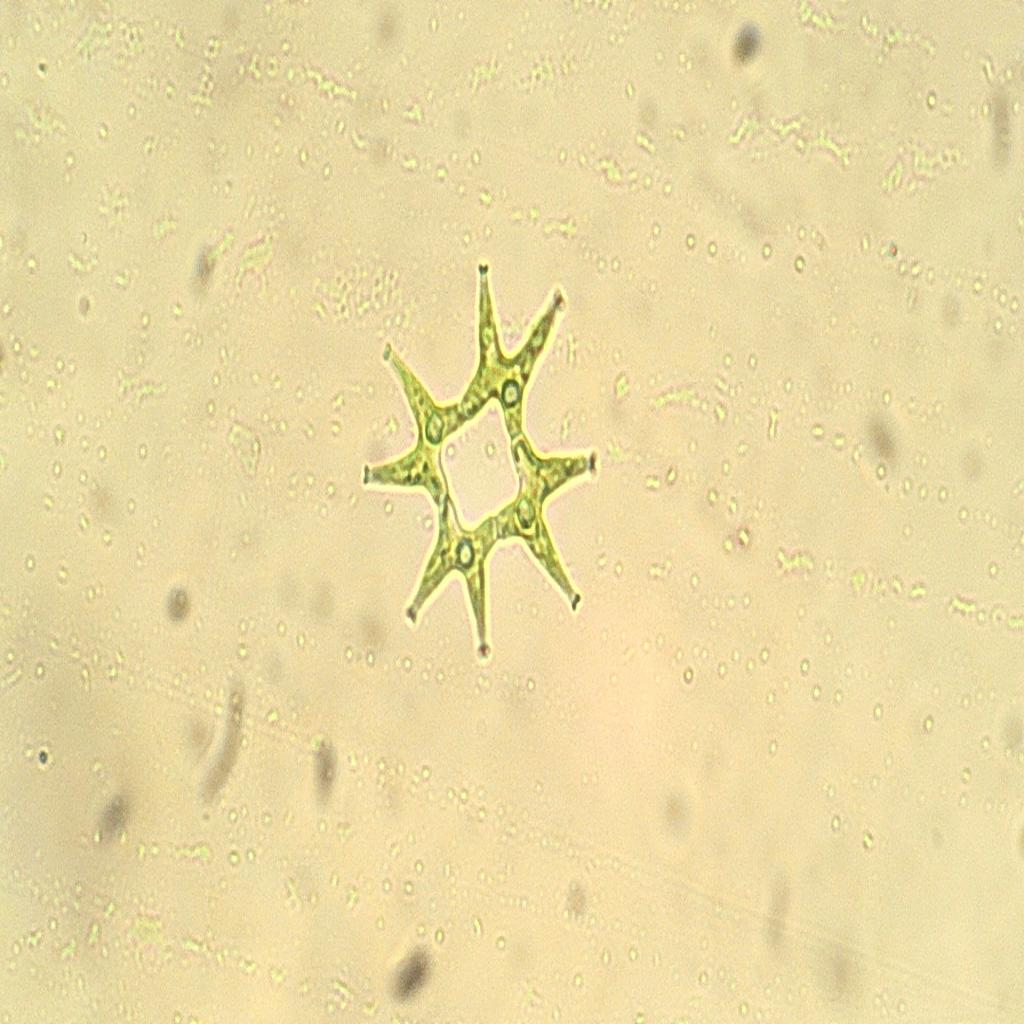Pediastrum_75O: (354, 250, 612, 688)
